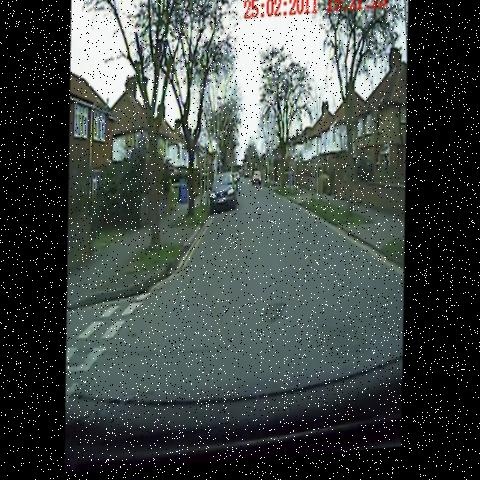pothole: (262, 303, 294, 334)
